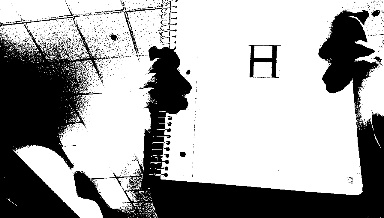H: (241, 43, 282, 78)
